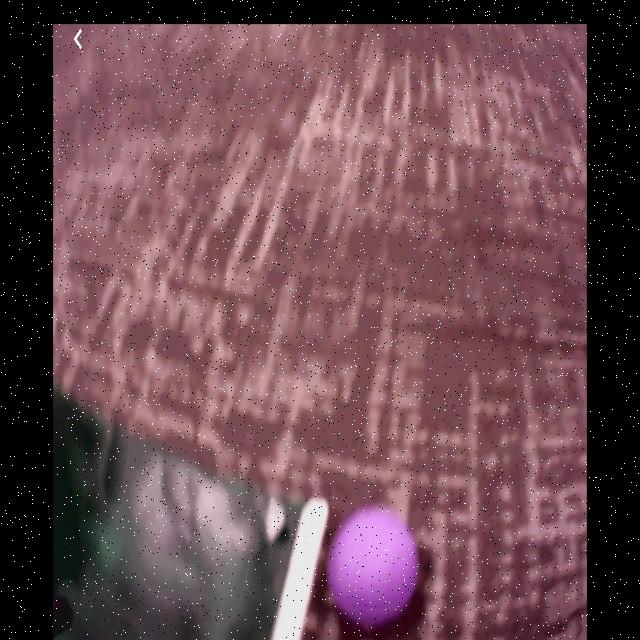ball: (329, 503, 420, 630)
